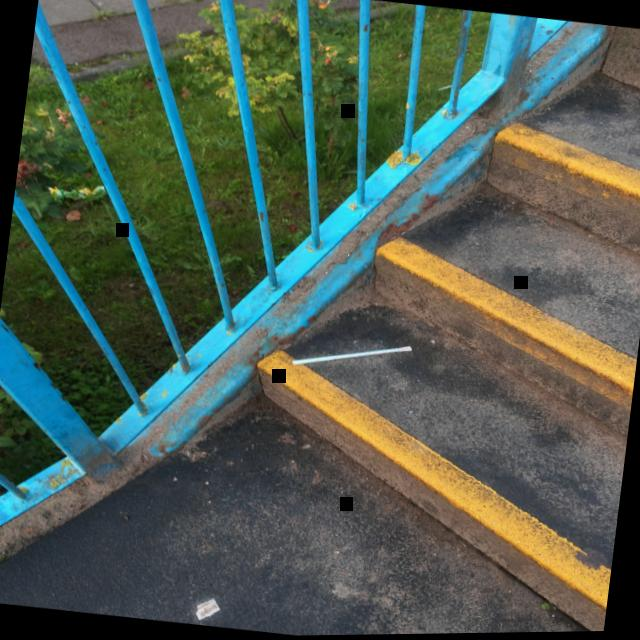Plastic straw: (291, 346, 410, 365)
Unlabeled litter: (195, 598, 219, 619)
